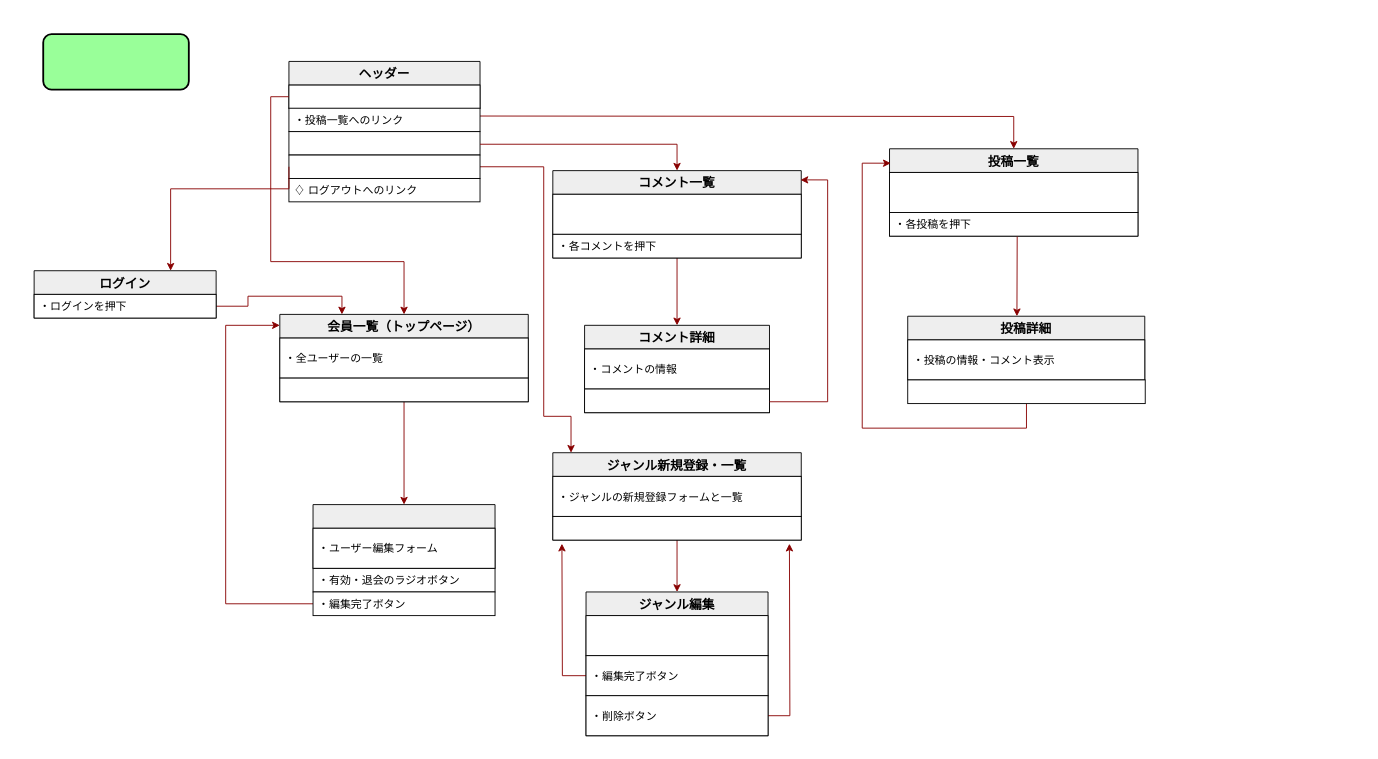
This 1378x759 diagram has some shape labels left out. Each missing label, with the box of its shape:
・コメント一覧へのリンク: (288, 131, 480, 155)
・コメント削除ボタン: (584, 388, 769, 413)
・ジャンルフォーム: (585, 615, 768, 656)
・ジャンル追加へのリンク: (288, 154, 480, 178)
・会員一覧（ロゴ）のリンク: (288, 84, 480, 108)
・全コメントの一覧: (552, 193, 801, 234)
・全投稿の一覧: (889, 172, 1138, 212)
・各ジャンルの編集ボタン: (552, 516, 801, 540)
・各ユーザーの行を押下: (279, 377, 528, 402)
・投稿削除ボタン: (907, 379, 1145, 404)
会員編集: (312, 504, 495, 568)
管理者: (42, 33, 189, 90)
